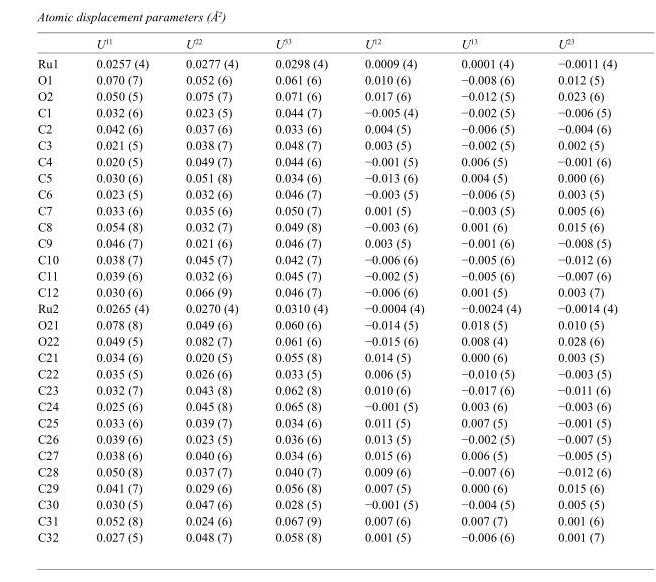table: (36, 36, 616, 543)
table column: (345, 36, 442, 543), (442, 36, 538, 543), (166, 36, 256, 543), (77, 36, 166, 543), (256, 36, 345, 543), (538, 36, 616, 543), (36, 36, 77, 543)
table column header: (36, 36, 616, 53)
table row: (36, 53, 616, 71), (36, 36, 616, 53), (36, 87, 616, 104), (36, 136, 616, 153), (36, 185, 616, 202), (36, 234, 616, 251), (36, 283, 616, 300), (36, 332, 616, 349), (36, 381, 616, 398), (36, 430, 616, 447), (36, 479, 616, 496), (36, 71, 616, 87), (36, 104, 616, 120), (36, 120, 616, 136), (36, 153, 616, 169), (36, 169, 616, 185), (36, 202, 616, 218), (36, 218, 616, 234), (36, 251, 616, 267), (36, 267, 616, 283), (36, 300, 616, 316), (36, 316, 616, 332), (36, 349, 616, 365), (36, 365, 616, 381), (36, 398, 616, 414), (36, 414, 616, 430), (36, 447, 616, 463), (36, 463, 616, 479), (36, 496, 616, 512), (36, 512, 616, 528), (36, 528, 616, 543)
